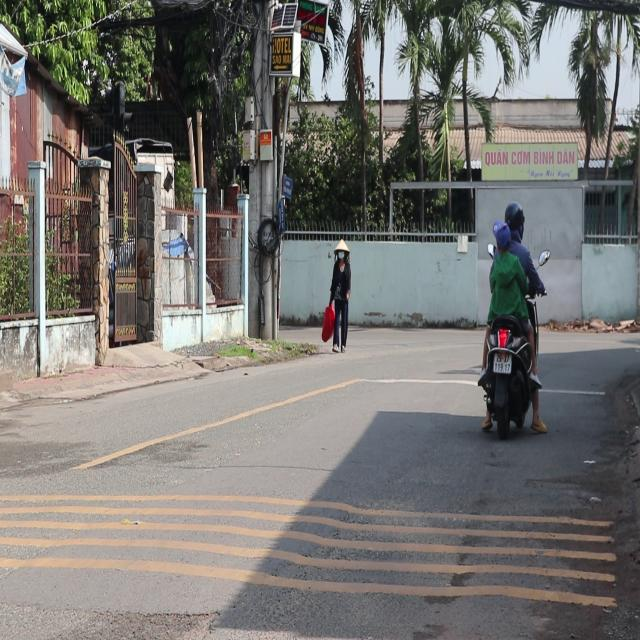helmet: (503, 200, 524, 237)
licenseplate: (475, 198, 544, 436)
motorcyclist: (492, 219, 510, 252)
nohelmet: (493, 353, 511, 373)
